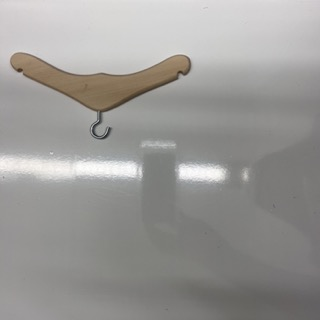rack: (10, 52, 190, 139)
